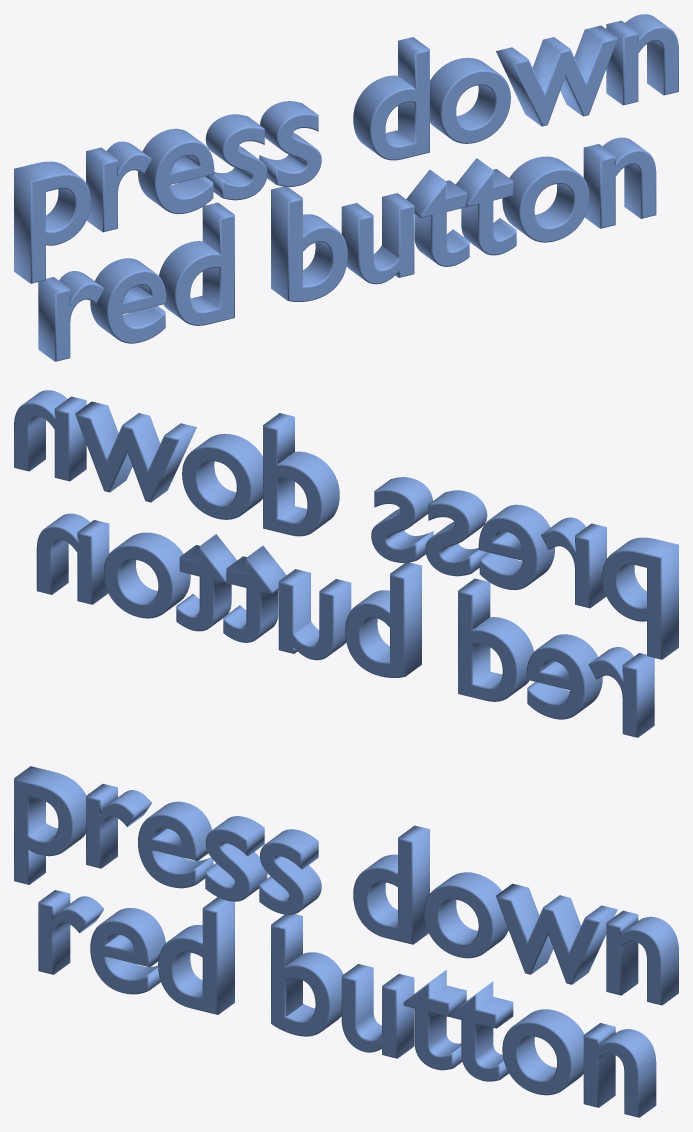
The model's file is hint.glb.
3 renders of one model, top to bottom at view 1: azimuth 30°, elevation 25°; view 2: azimuth 150°, elevation 25°; view 3: azimuth 330°, elevation 25°, orthographic.
Visible parts, largest first — view 1: Text; view 2: Text; view 3: Text.
Part boxes in pixels (<box>): Text: <box>14,14,678,361</box>; Text: <box>14,390,678,737</box>; Text: <box>14,766,678,1117</box>.
Size of the model in its own units: 4.61 by 1.51 by 0.22.
